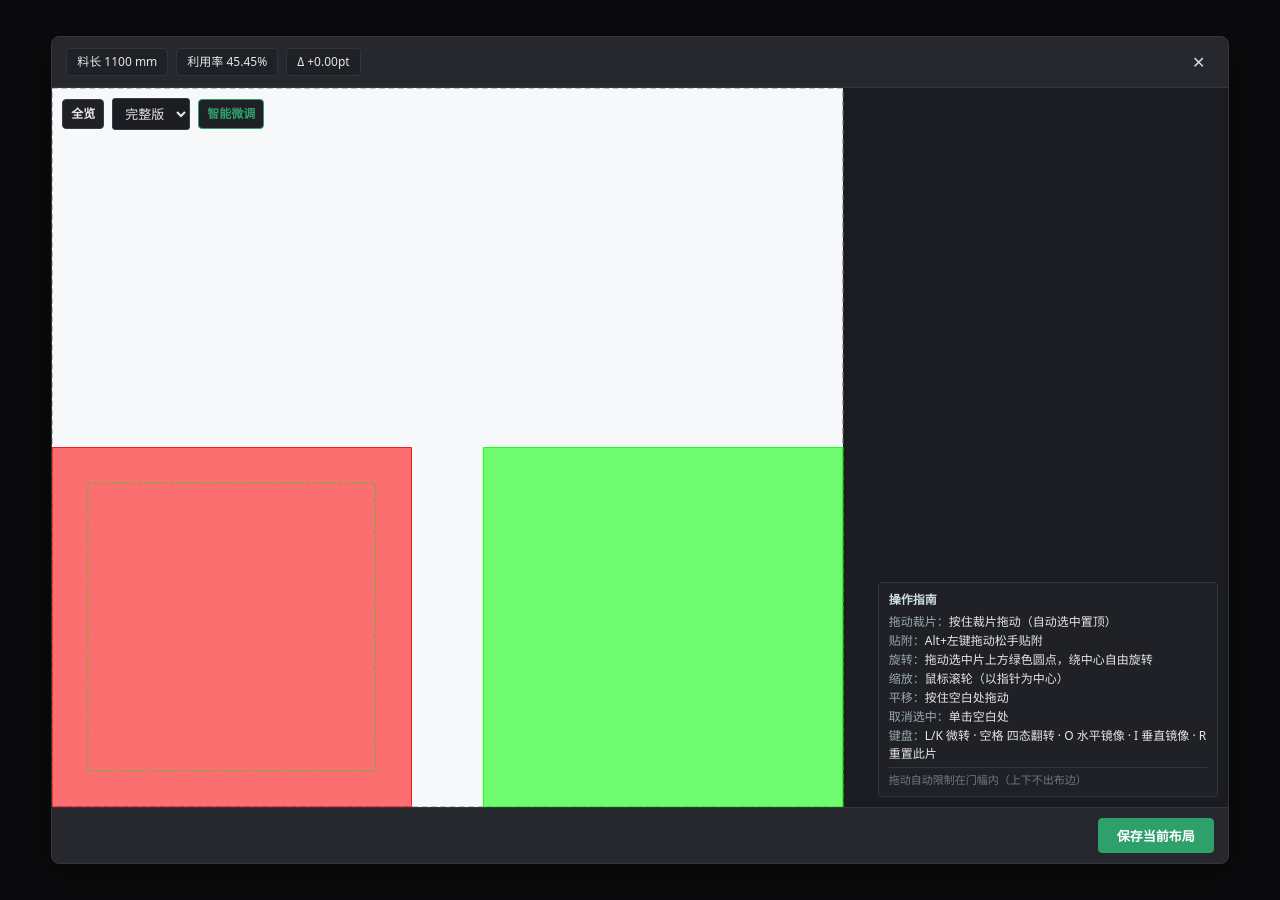
Test: EditLayoutModal 智能微调 (edit-polish US-003) › 成功后 working 替换 + 画布数据源更新 + 对比卡六指标/撤销按钮渲染（口径注记在按钮 title）
What coordinates should you click on to do the following:
click the button with test id "edit-polish-btn"
I would click on:
 (231, 114)
Its box is left=198, top=99, right=264, bottom=129.
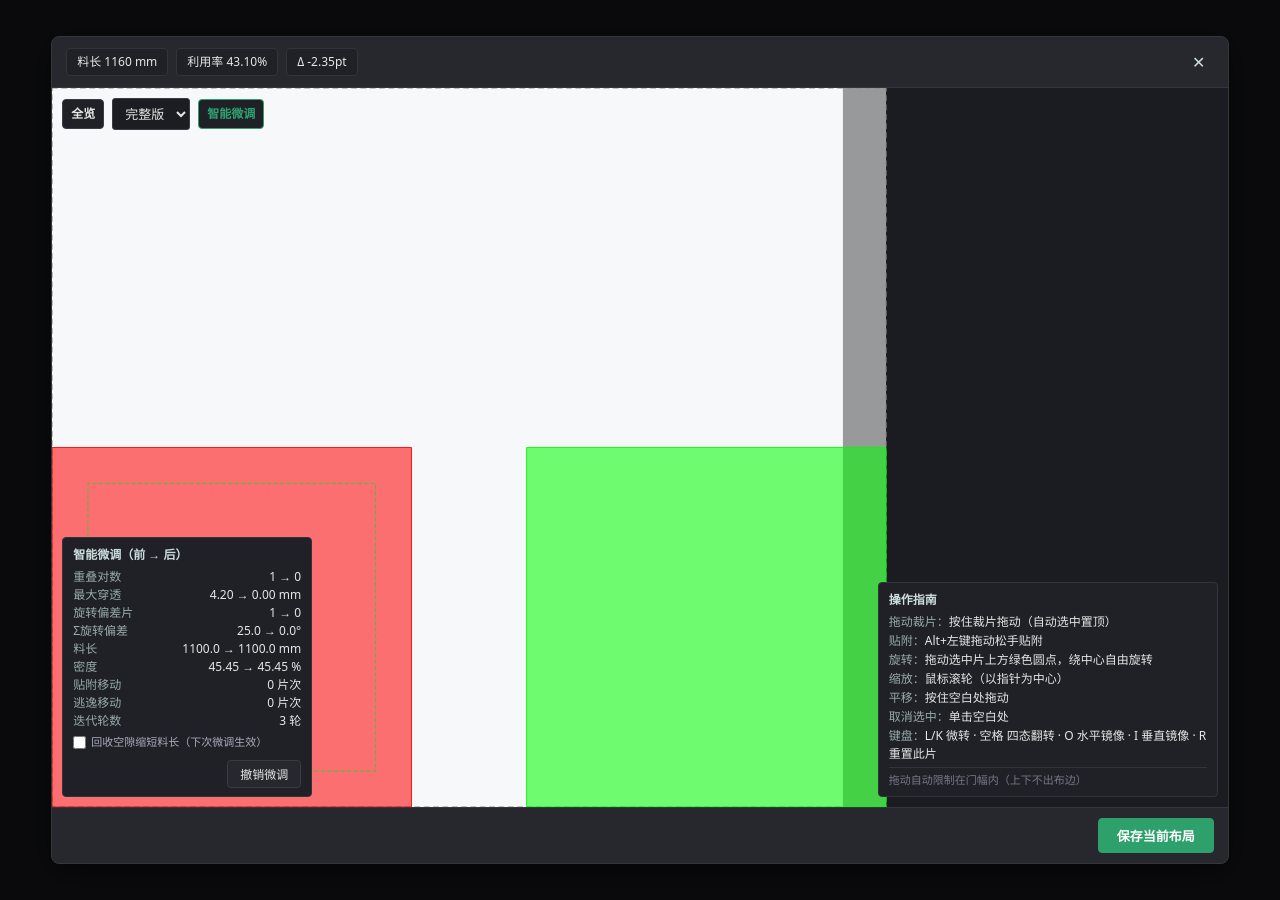
Now the element with test id "edit-polish-card" is shown, box left=62, top=537, right=312, bottom=797
Now the text with test id "edit-polish-overlap" reads "1 → 0", box left=269, top=568, right=301, bottom=586
Now the text with test id "edit-polish-depth" reads "4.20 → 0.00 mm", box left=210, top=586, right=301, bottom=604
